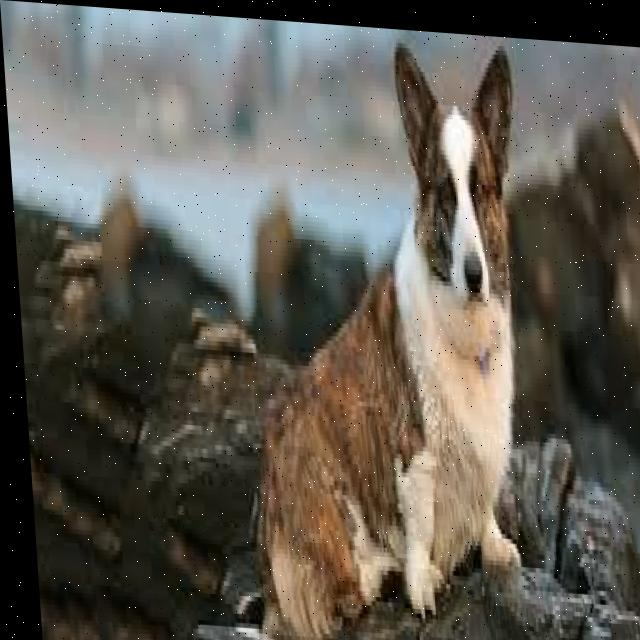CORGI: (228, 13, 567, 640)
